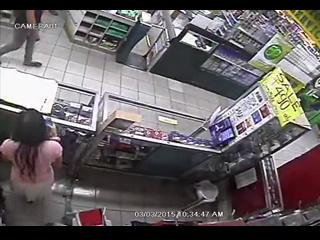Normal: (0, 108, 64, 226), (0, 11, 44, 68)
